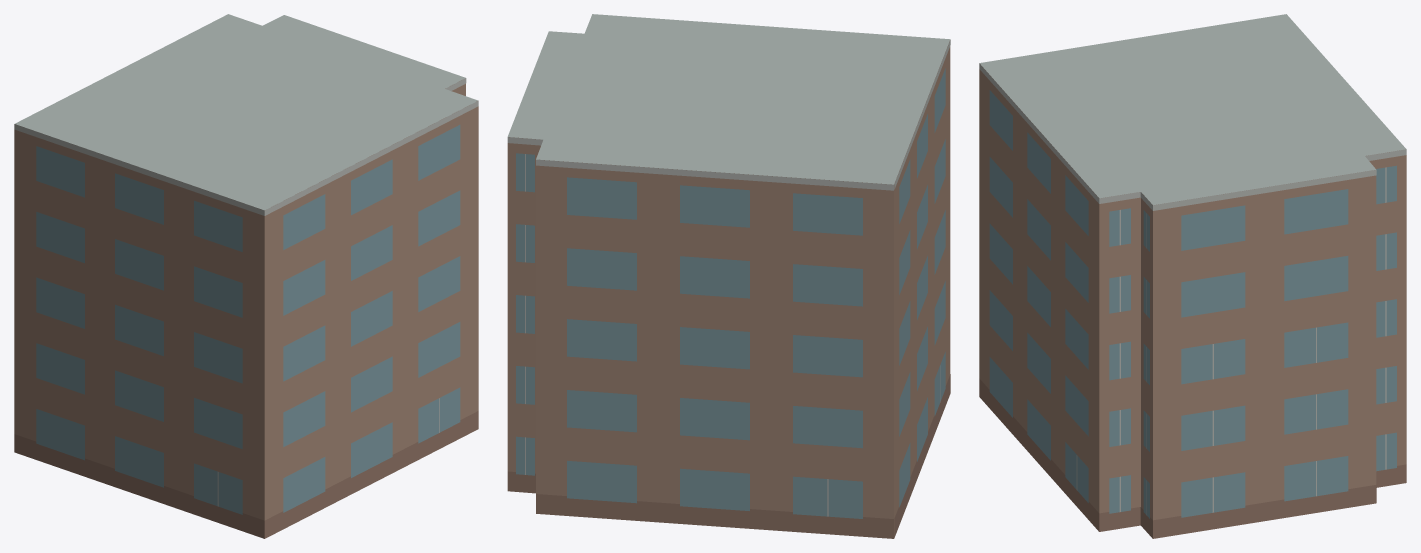
The model's file is survey-upis-32950070.glb.
3 views of the same model, side by side, from view 1: azimuth 30°, elevation 25°; view 2: azimuth 150°, elevation 25°; view 3: azimuth 270°, elevation 25° (orthographic). The views are drawn at different scales.
Visible parts, largest first — view 1: survey-upis-32950070.tmp; view 2: survey-upis-32950070.tmp; view 3: survey-upis-32950070.tmp.
Boxes of the visible parts, bbox=[...] form: survey-upis-32950070.tmp: bbox=[14, 14, 478, 538]; survey-upis-32950070.tmp: bbox=[507, 14, 950, 538]; survey-upis-32950070.tmp: bbox=[979, 14, 1406, 538].
Bounding box in the file's own units: 17.47 × 14.2 × 16.5.
